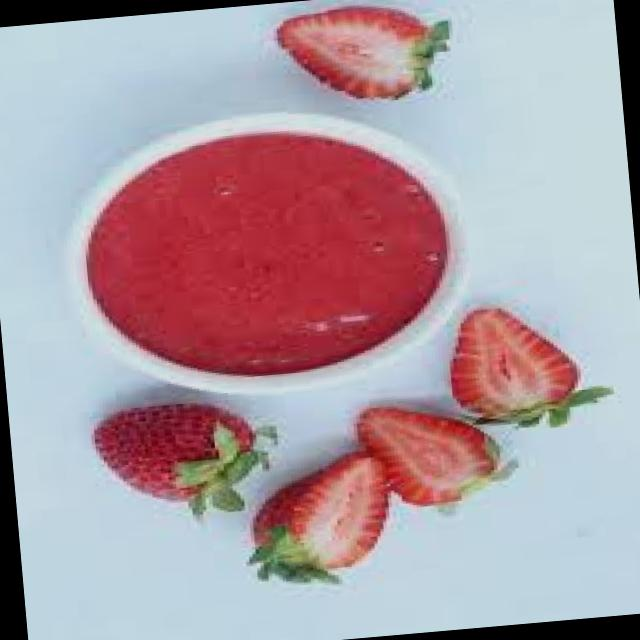tofu: (82, 388, 286, 530), (444, 283, 602, 429), (244, 449, 398, 581), (272, 0, 454, 107), (354, 396, 514, 514)
